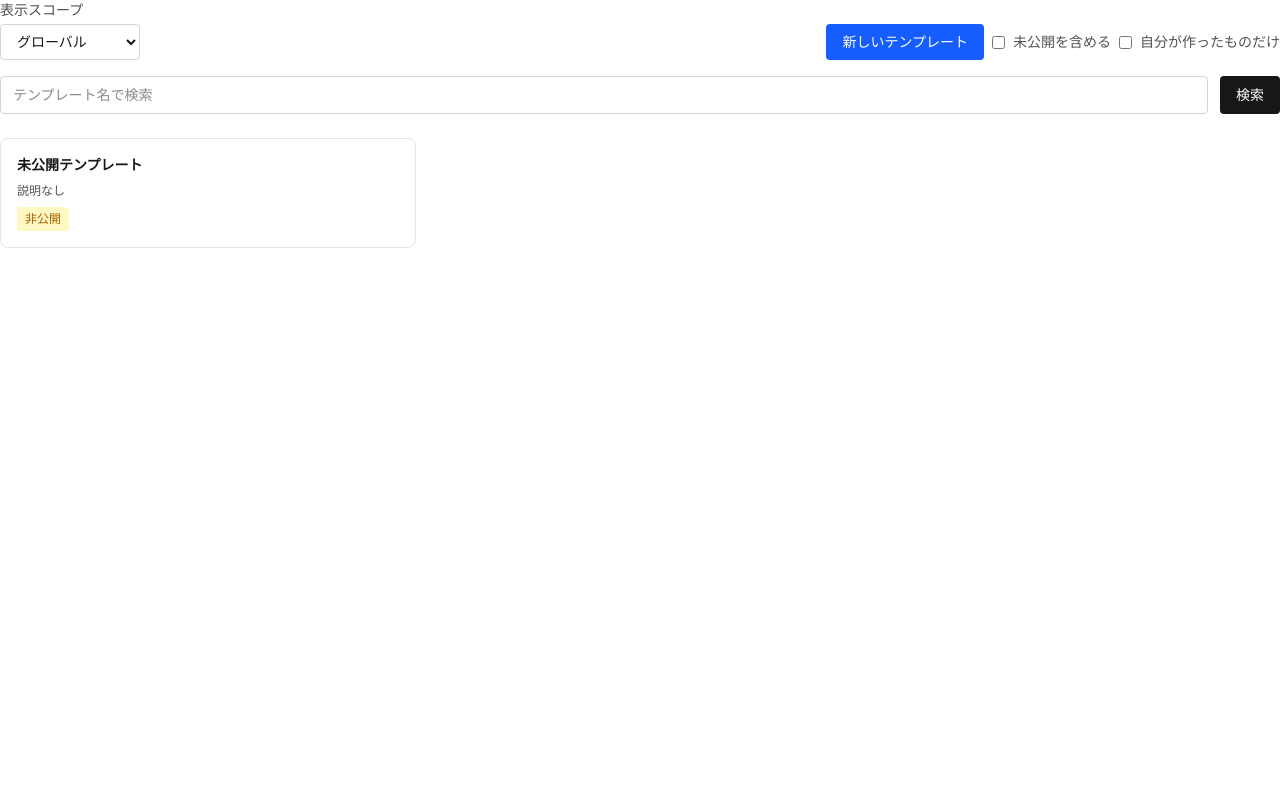
Test: CustomTagTemplateGallery プロジェクトで使う(issue #1131) › 複製を作成ボタンは残したまま、プロジェクトで使うボタンが出る。タグ名かプロジェクトが空の間は押せない
Click the heading "未公開テンプレート" at (80, 165), box [17, 157, 143, 173]
(page scrolled)
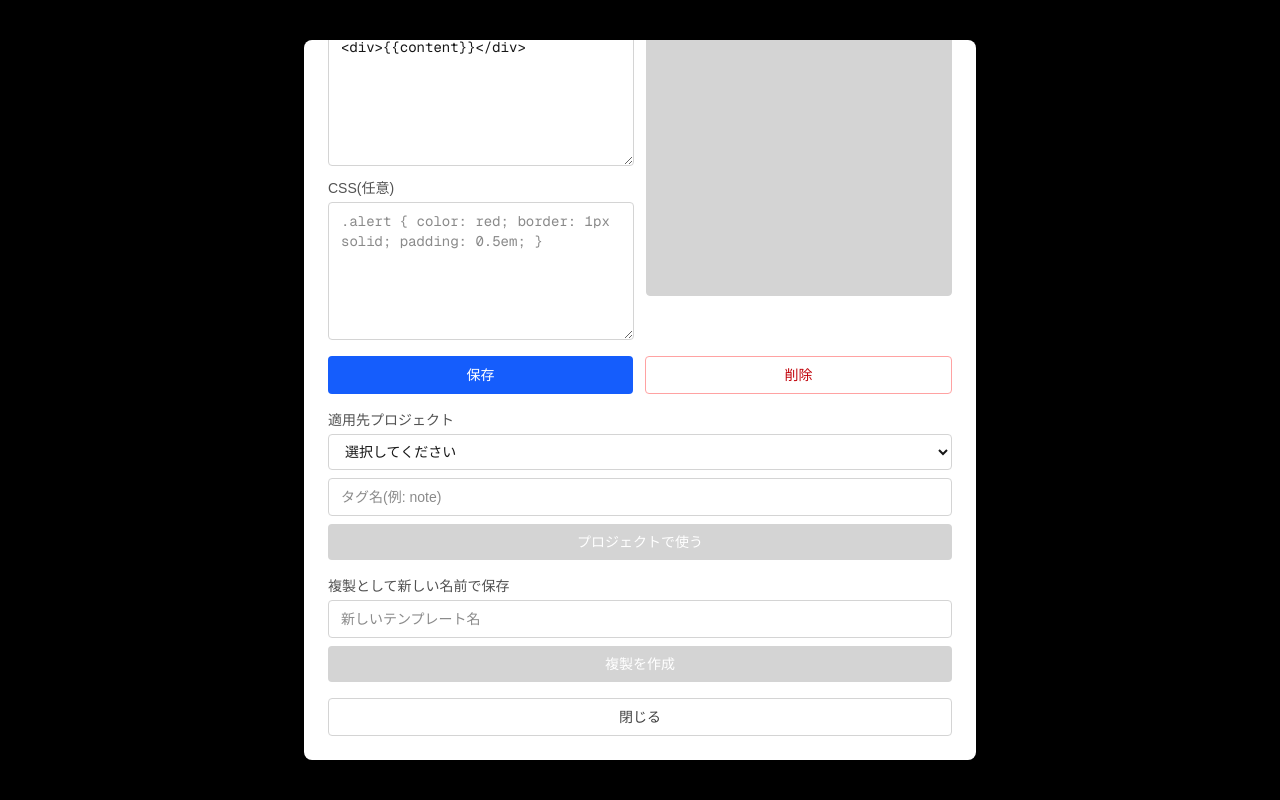
Expected: the button "複製を作成" is shown, [328, 646, 952, 682]
Expected: the button "プロジェクトで使う" is disabled, [328, 524, 952, 560]
Type "note" into the field with placeholder "タグ名(例: note)" at (640, 497), box [328, 478, 952, 516]
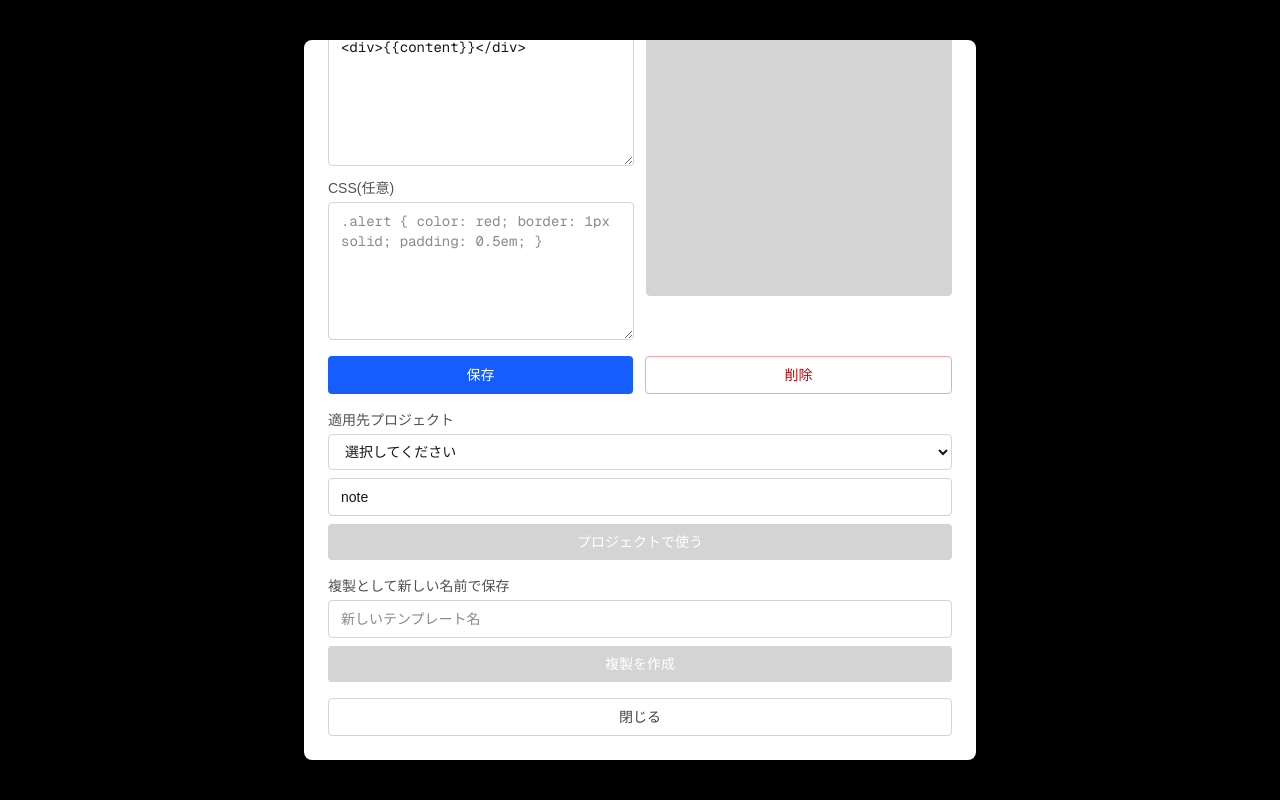
Expected: the button "プロジェクトで使う" is disabled, [328, 524, 952, 560]
Select "プロジェクトB" in the dropdown labelled "適用先プロジェクト" at (640, 452), box [328, 434, 952, 470]
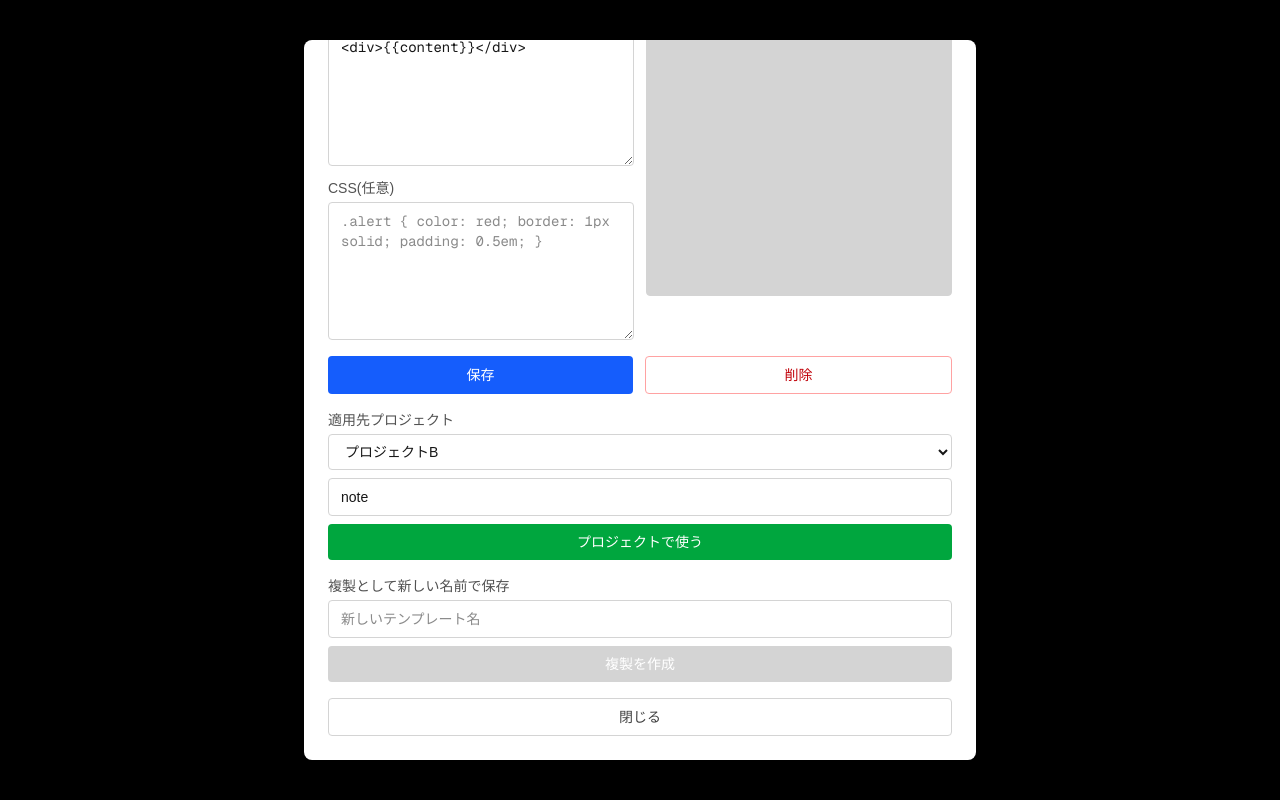
Expected: the button "プロジェクトで使う" is enabled, [328, 524, 952, 560]
